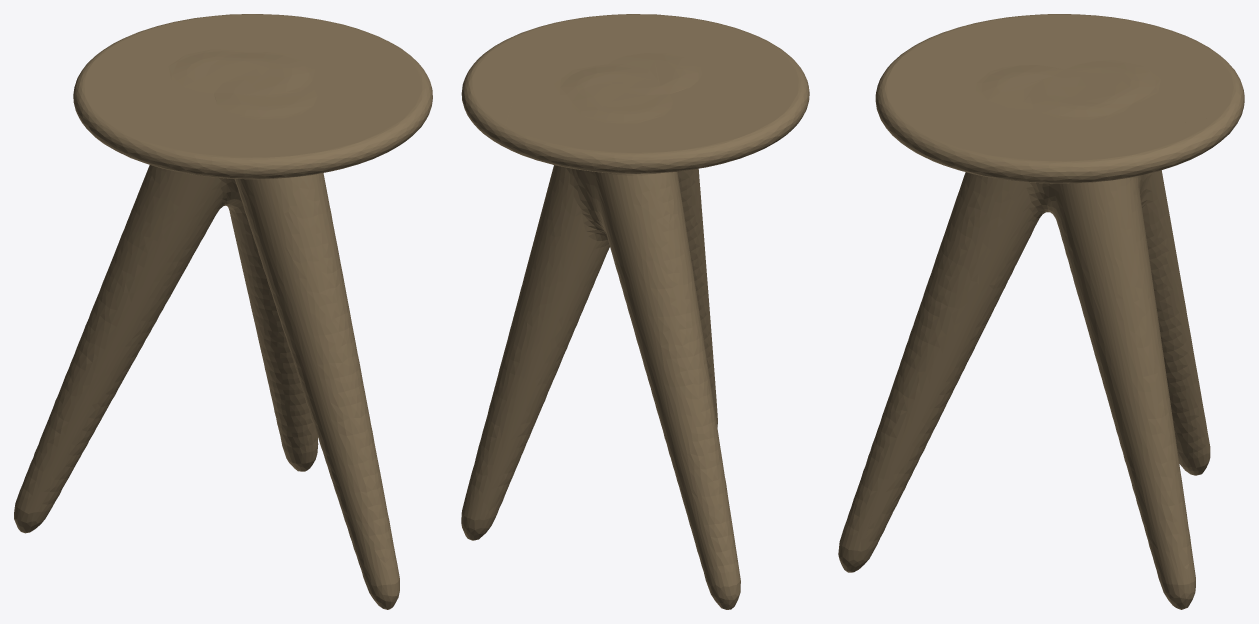
File: hocker_2.obj
The picture shows the model from 3 angles, left to right: view 1: azimuth 30°, elevation 25°; view 2: azimuth 150°, elevation 25°; view 3: azimuth 270°, elevation 25°; orthographic projection. The views are drawn at different scales.
Parts seen in each view (by area): view 1: 281895_23_05_30_08_38_31_1; view 2: 281895_23_05_30_08_38_31_1; view 3: 281895_23_05_30_08_38_31_1.
Part boxes in pixels (x1=…): 281895_23_05_30_08_38_31_1: x1=14, y1=14, x2=432, y2=609; 281895_23_05_30_08_38_31_1: x1=461, y1=14, x2=809, y2=609; 281895_23_05_30_08_38_31_1: x1=838, y1=14, x2=1244, y2=609.
Size of the model in its own units: 0.8105 by 1.08 by 0.8486.
Materials: 1 (1 with a texture image).
